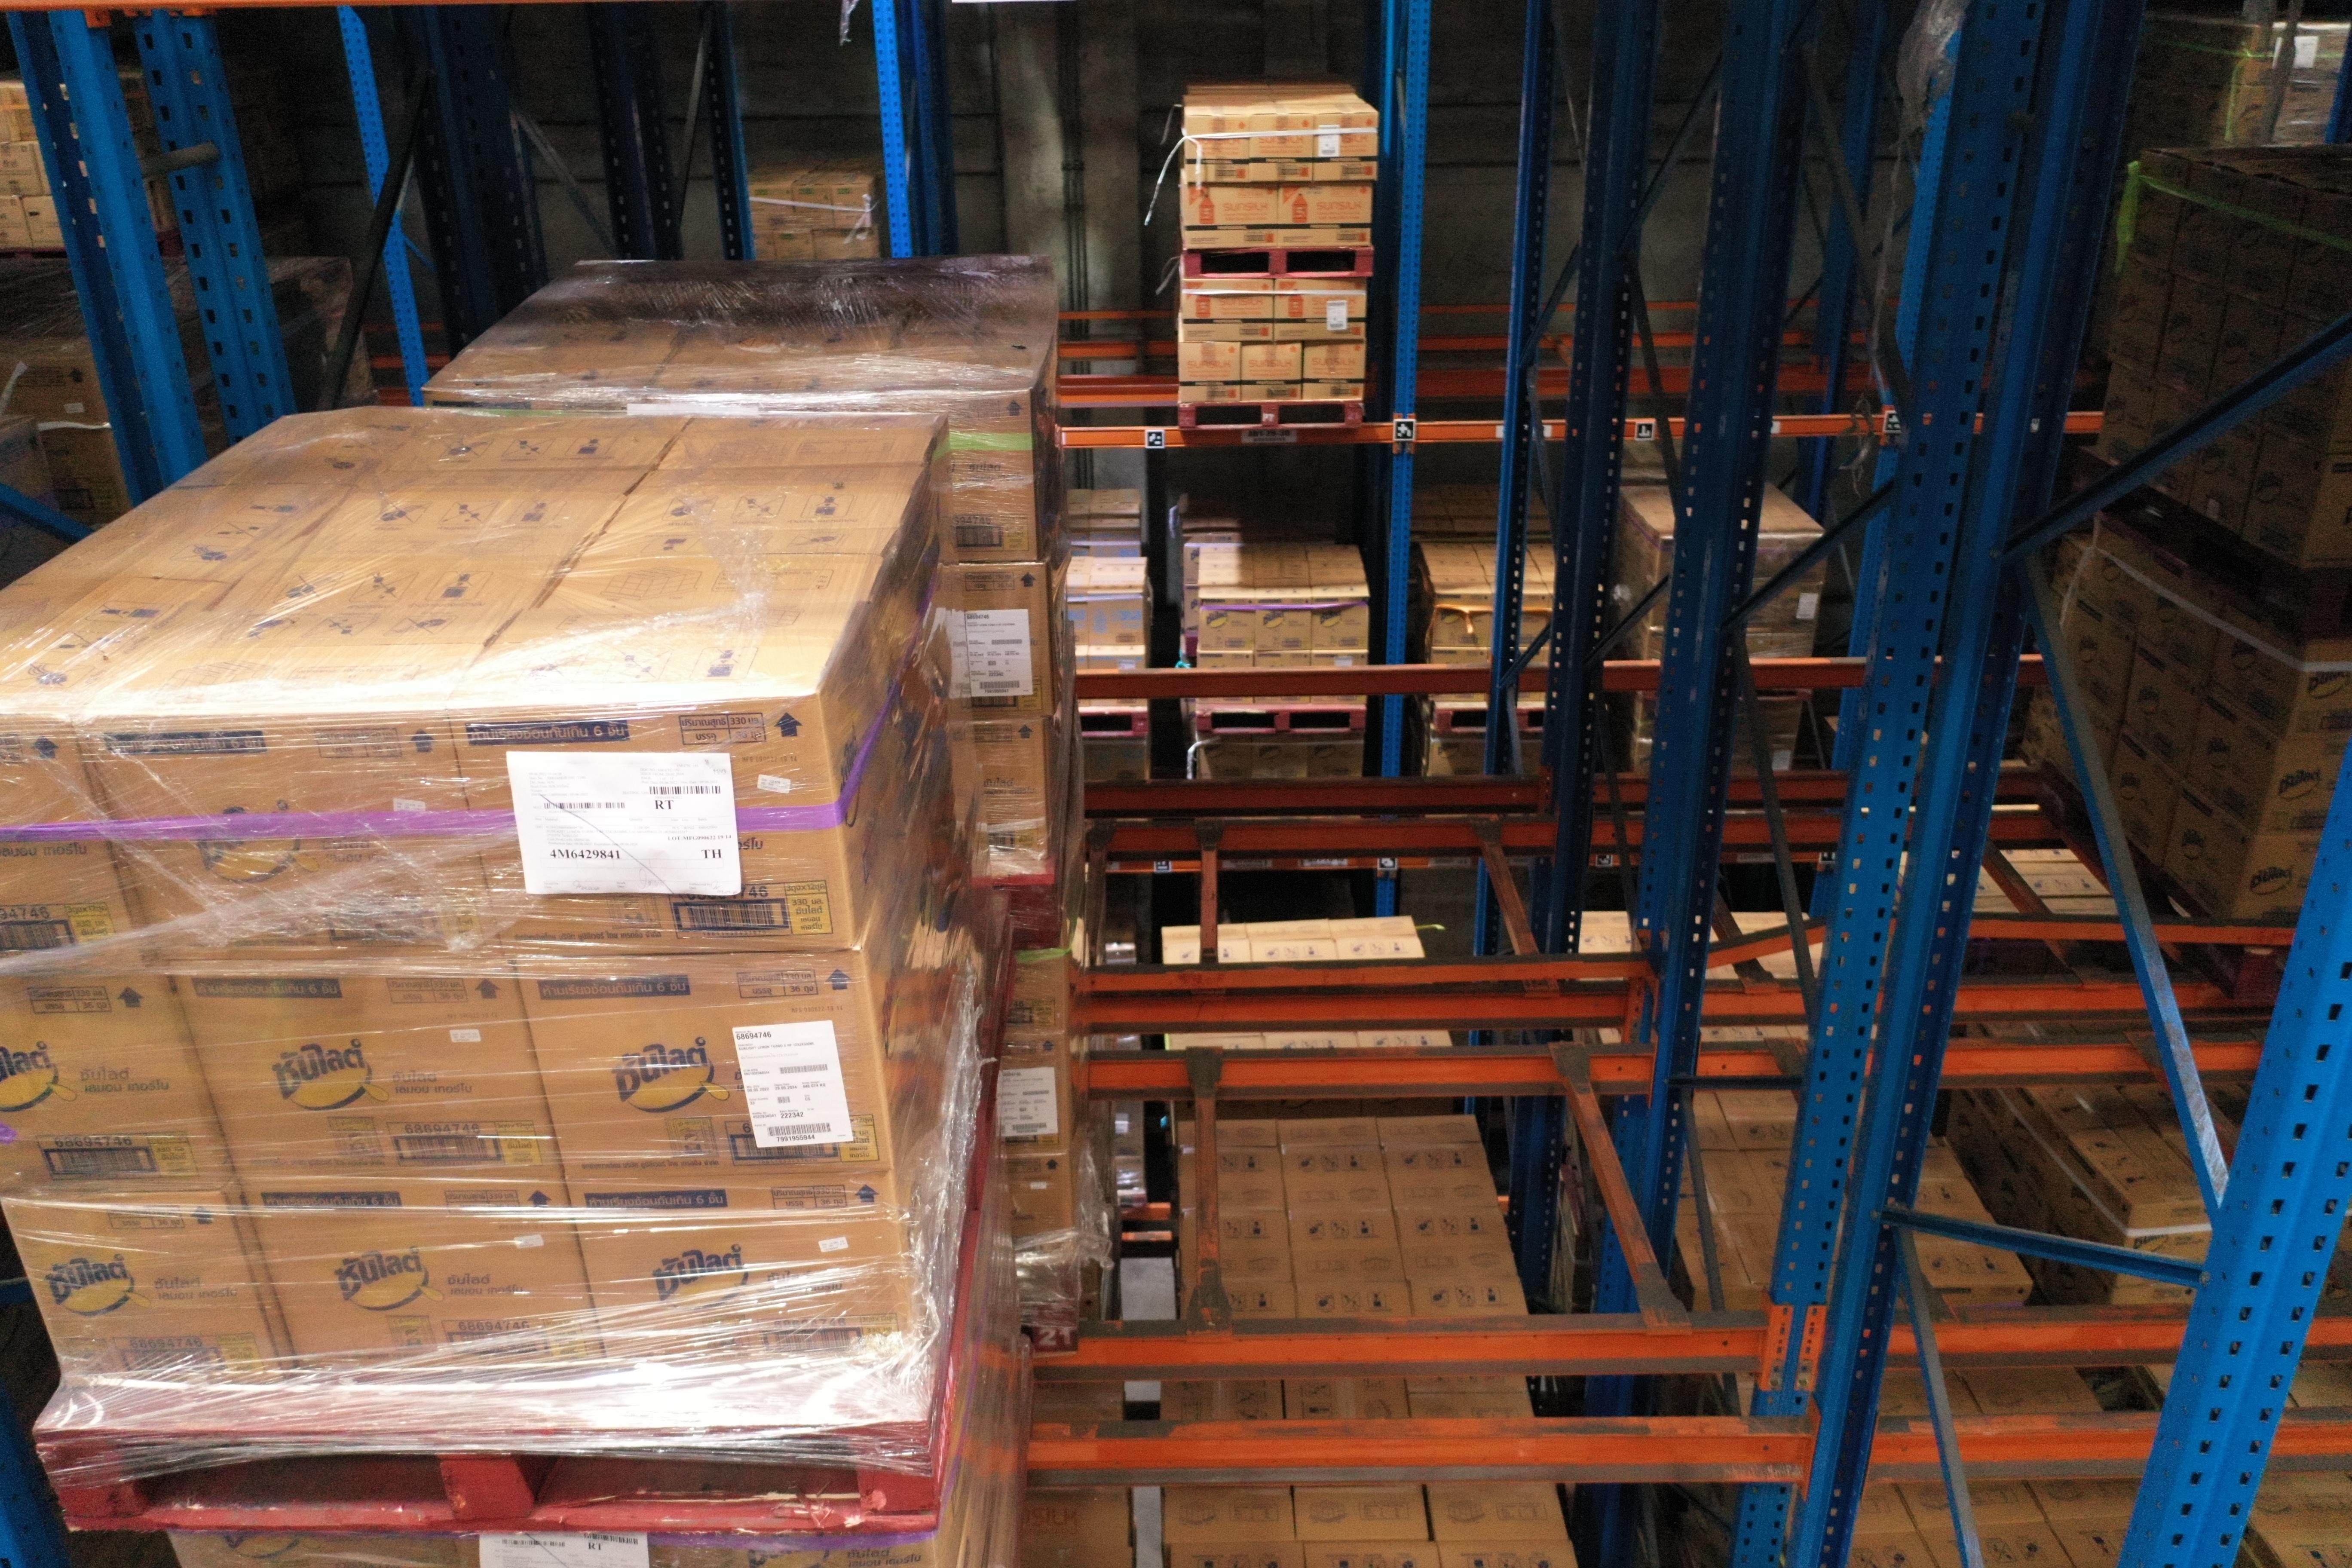-: (451, 698, 857, 959), (82, 717, 506, 955), (514, 950, 894, 1181), (168, 968, 563, 1181), (567, 1176, 926, 1384), (238, 1181, 612, 1379), (0, 1199, 290, 1386), (0, 969, 226, 1197), (0, 717, 149, 976)
